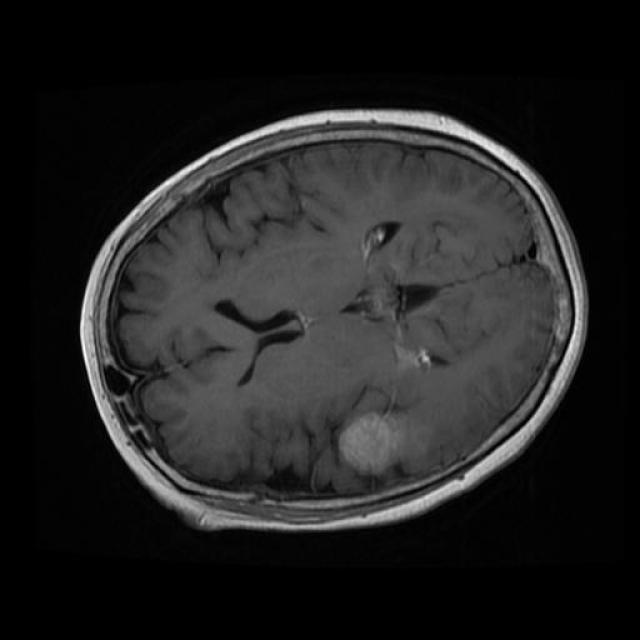Meningioma: (340, 413, 404, 475)
